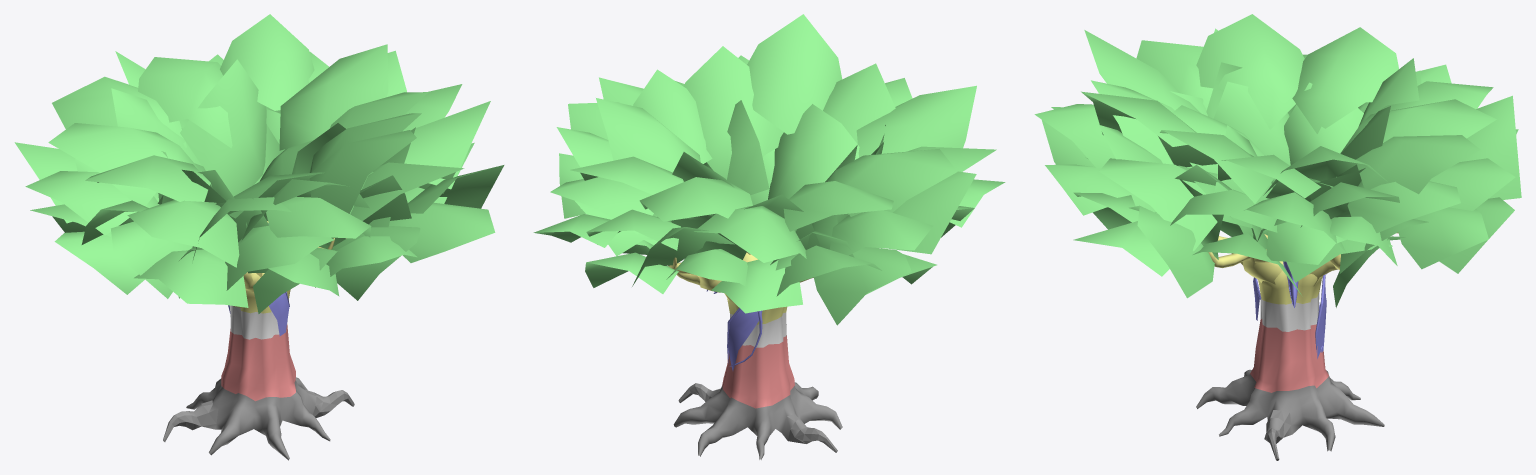
File: PriMT_LandMark2_tree02.gltf
3 renders of one model, left to right at view 1: azimuth 30°, elevation 25°; view 2: azimuth 150°, elevation 25°; view 3: azimuth 270°, elevation 25°, orthographic. The views are drawn at different scales.
Parts seen in each view (by area): view 1: PriMT_LandMark2_tree02; view 2: PriMT_LandMark2_tree02; view 3: PriMT_LandMark2_tree02.
Boxes of the visible parts, box(x1,y1,x2,y2) form: PriMT_LandMark2_tree02: box(14, 14, 504, 460); PriMT_LandMark2_tree02: box(533, 14, 1005, 459); PriMT_LandMark2_tree02: box(1034, 14, 1521, 460).
Size of the model in its own units: 39.92 by 33.23 by 41.34.
